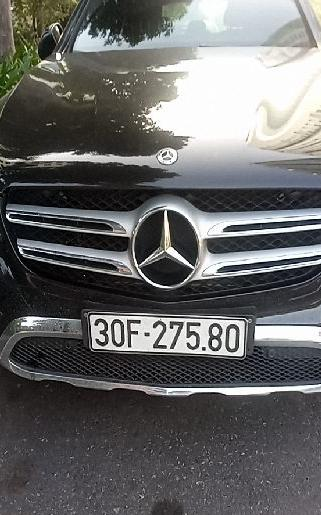Plate-iWeP: (89, 316, 246, 354)
